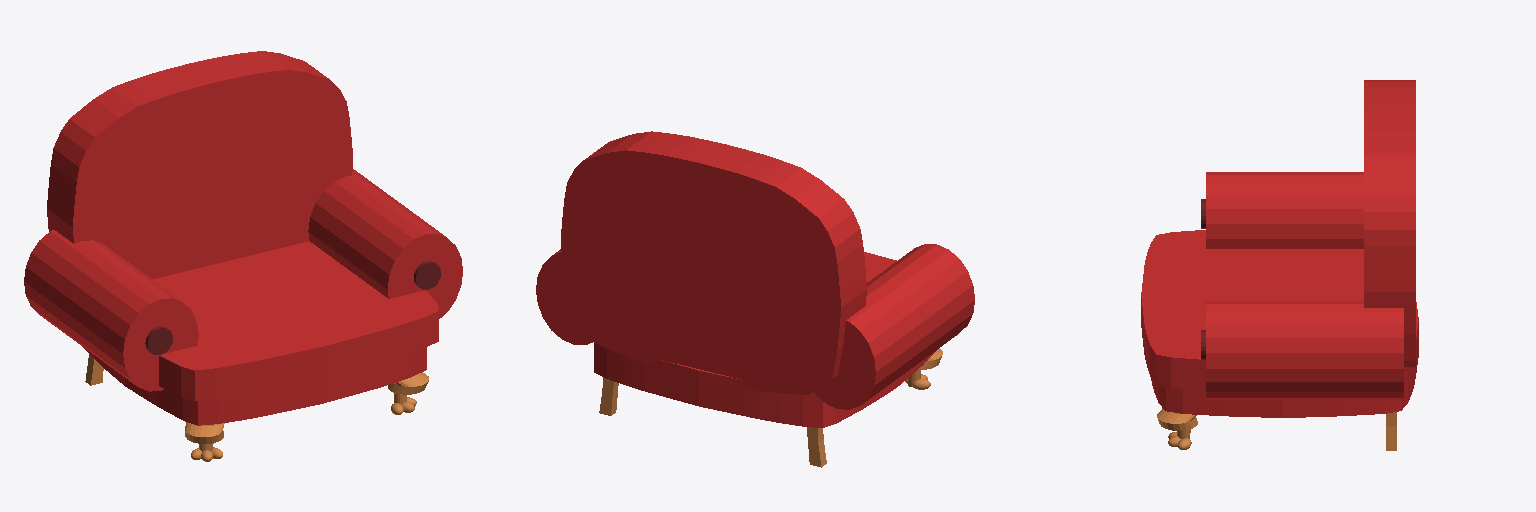
The picture shows the model from 3 angles: view 1: azimuth 30°, elevation 25°; view 2: azimuth 150°, elevation 25°; view 3: azimuth 270°, elevation 25°; orthographic projection.
Visible parts, largest first — view 1: pasted__pCylinder1; view 2: pasted__pCylinder1; view 3: pasted__pCylinder1.
Boxes of the visible parts, x1=… form: pasted__pCylinder1: x1=24, y1=51, x2=462, y2=461; pasted__pCylinder1: x1=536, y1=131, x2=974, y2=467; pasted__pCylinder1: x1=1141, y1=80, x2=1418, y2=450.
Size of the model in its own units: 5.84 by 4.68 by 4.13.
Materials: 3 (3 with a texture image).